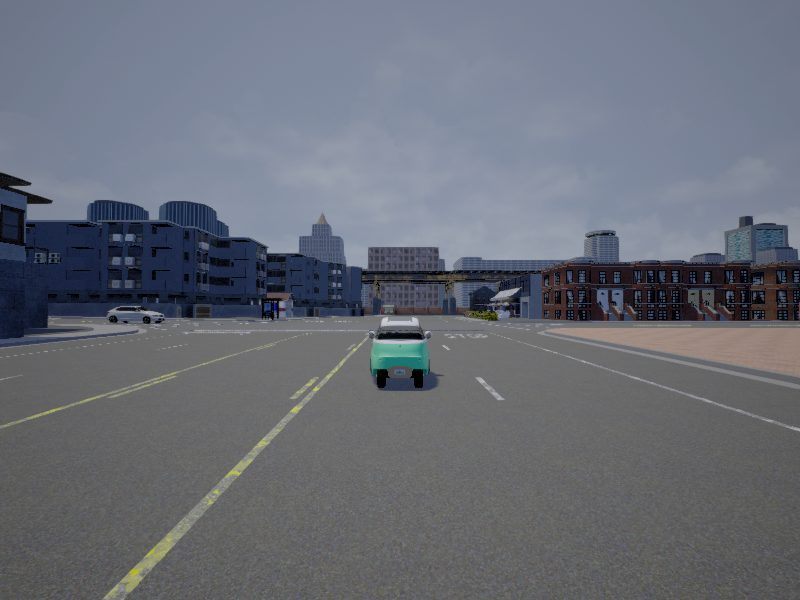Benign: (370, 315, 429, 390), (106, 304, 167, 327)
